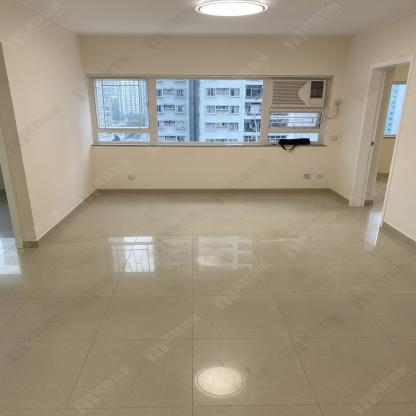AC: (270, 79, 326, 108)
